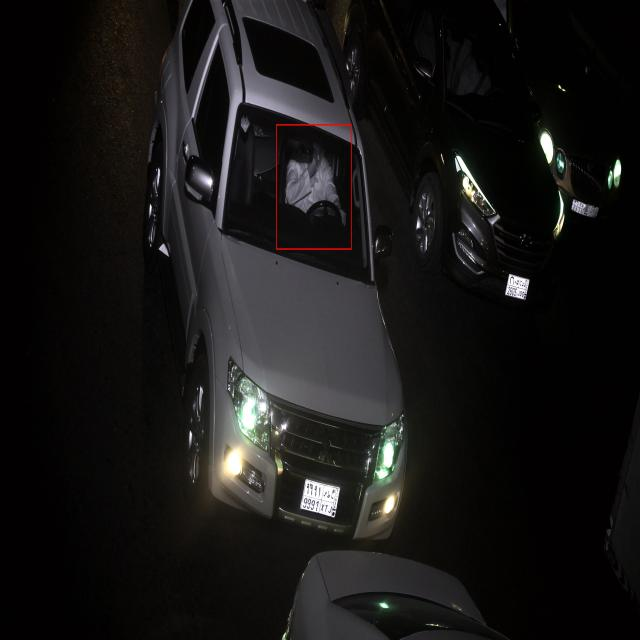windshield: (223, 99, 376, 294)
